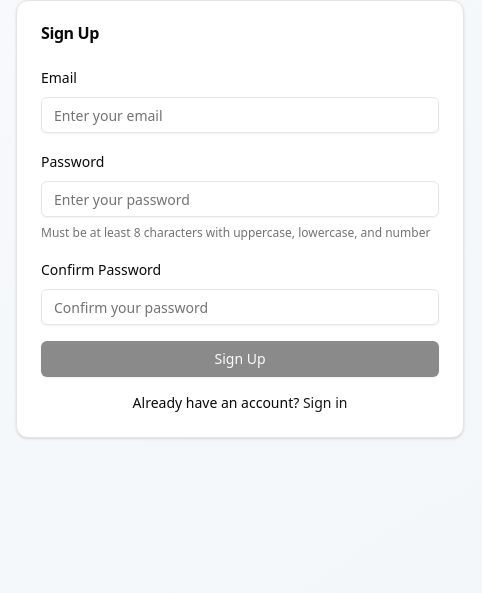
Scenario: SignUpForm integration with ResendVerification (TDD-first) › shows ResendVerification when signUp reports needsVerification
The width and height of the screenshot is (482, 593).
Type "test@example.com" into the field with id "signup-email".
click(240, 115); type("test@example.com")  # box [41,97,439,133]
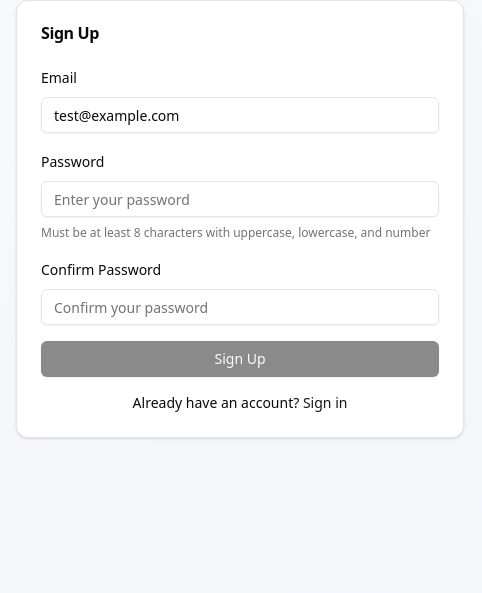
Type "Password123" into the password field with id "signup-password".
click(240, 199); type("Password123")  # box [41,181,439,217]
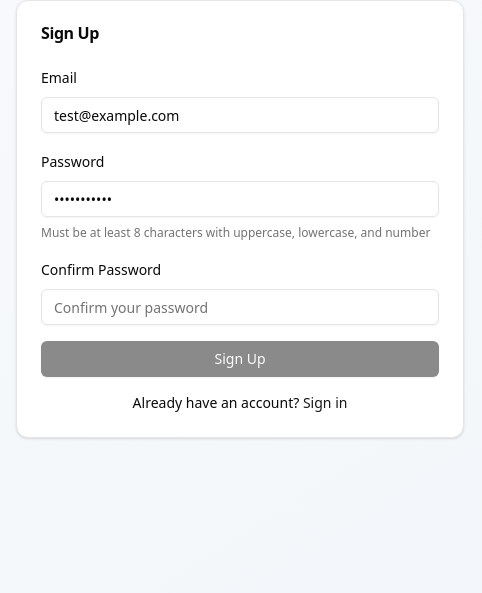
Type "Password123" into the password field with id "signup-confirm-password".
click(240, 307); type("Password123")  # box [41,289,439,325]
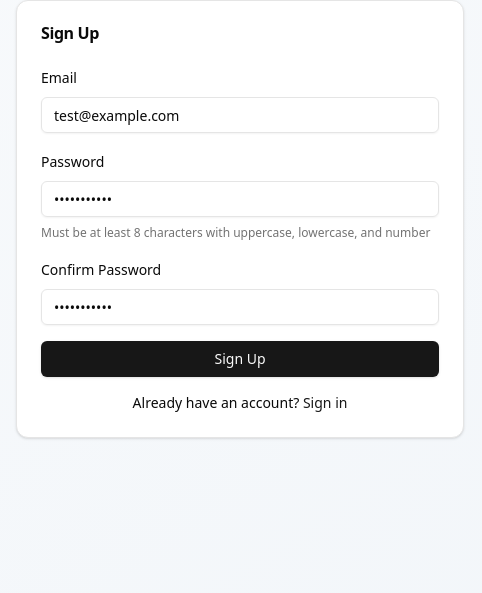
Note: Submit the form
Submit the form, box [41,65,439,377]
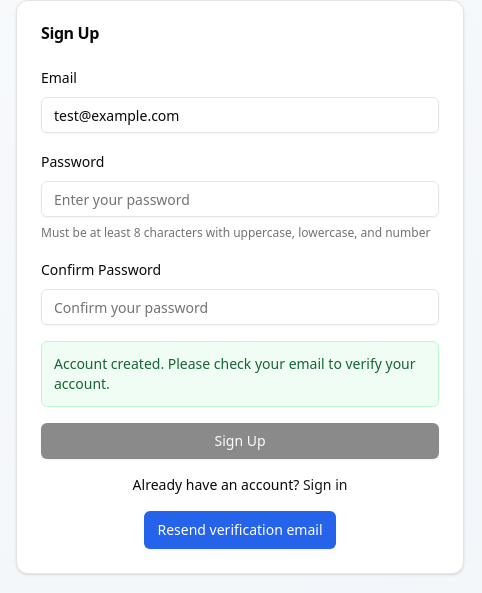
Result: the text "Account created. Please check your email to verify your account." is shown at [54,354,426,394]
Result: the element showing "Resend verification email" is shown at [144,511,336,549]
